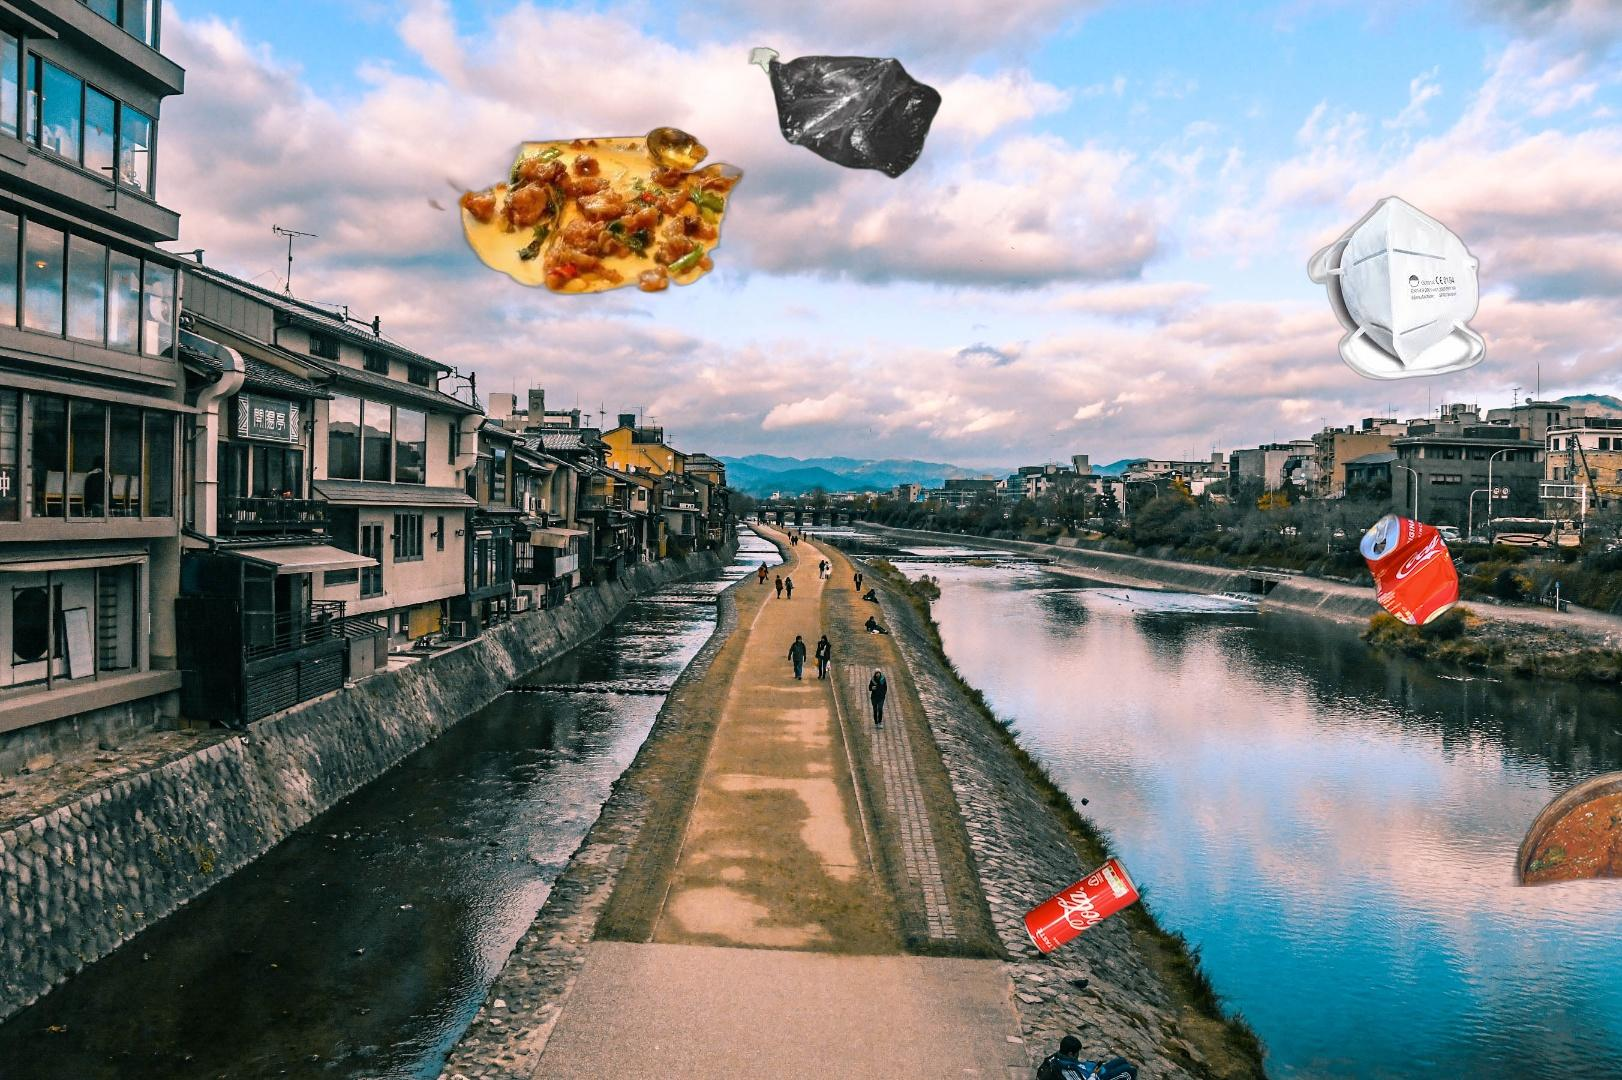biological: (372, 125, 778, 300), (1489, 612, 1622, 887), (1267, 1075, 1622, 1080)
metal-cans: (1018, 852, 1145, 967), (1354, 507, 1463, 633)
plastic-bag: (745, 45, 945, 181)
trash: (1304, 194, 1488, 383)
